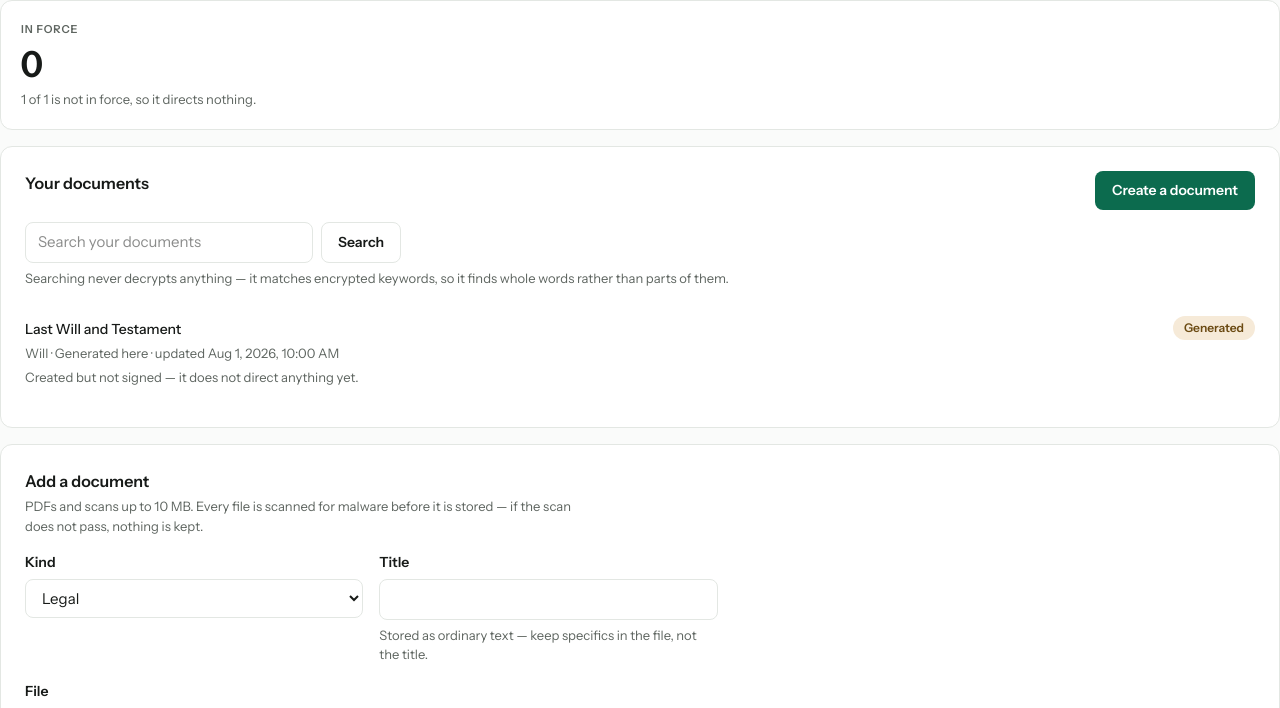
encrypted search › refuses a too-short query with the server’s own bound, before sending
Expected: the link "Last Will and Testament" is shown, [25, 320, 181, 338]
Type "ab" into the field labelled "Search your documents". click: (169, 242)
box: [25, 222, 313, 262]
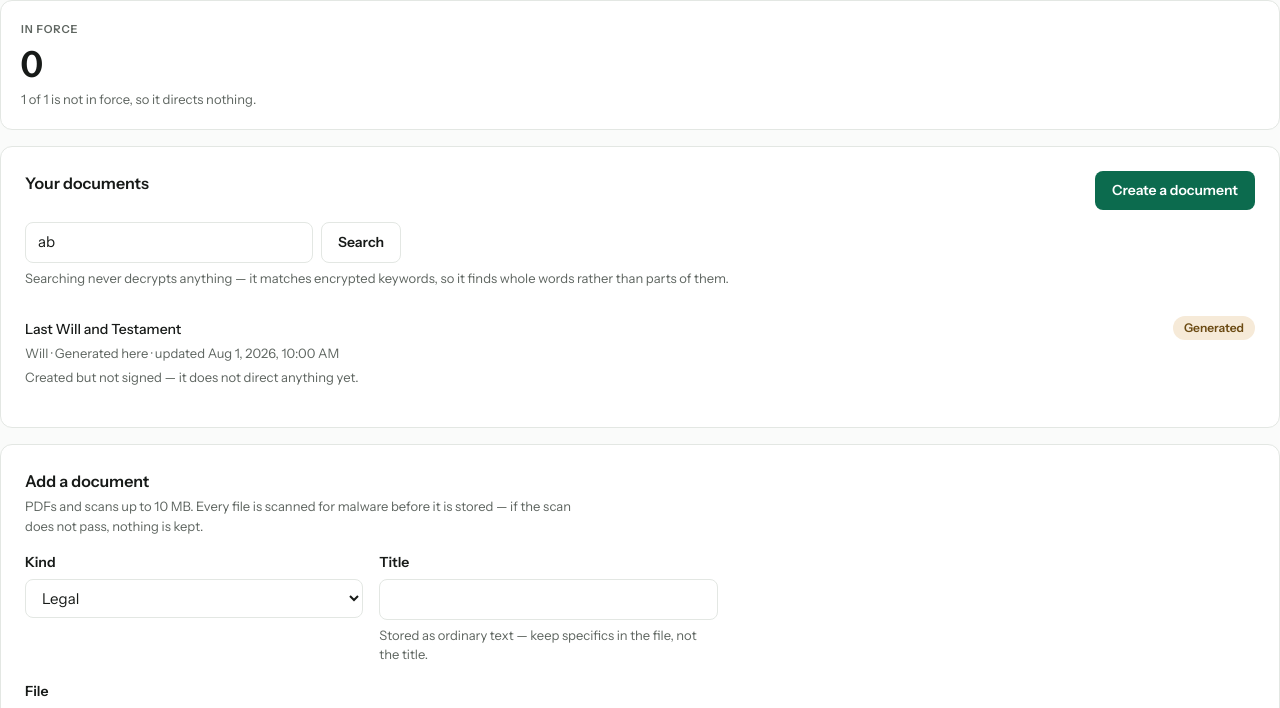
Click the button "Search". click: (361, 242)
box: [321, 222, 401, 262]
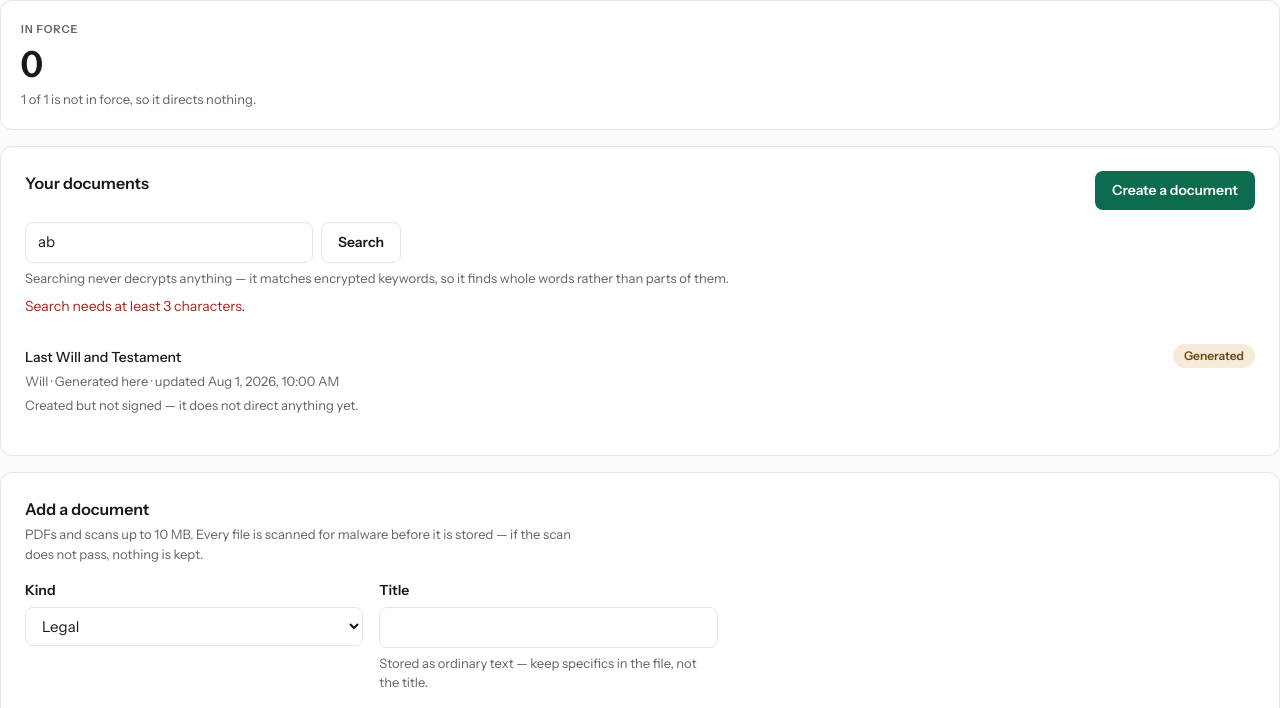
Result: the text "Search needs at least 3 characters." is shown at [25, 297, 245, 315]
